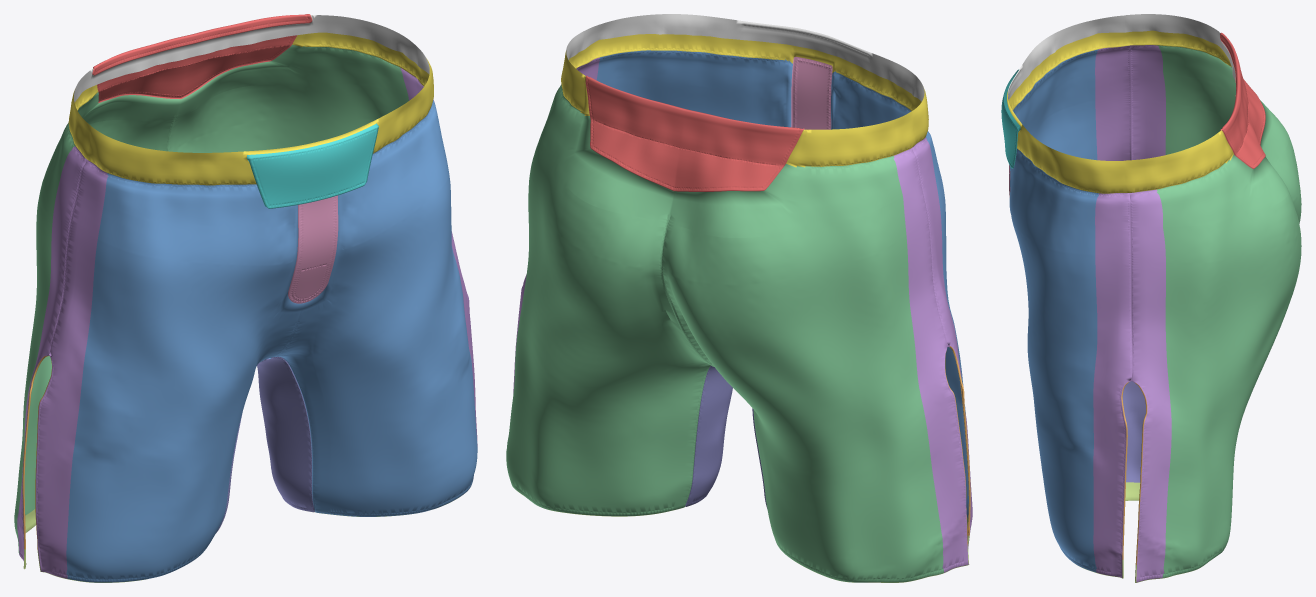
3 renders of one model, left to right at view 1: azimuth 30°, elevation 25°; view 2: azimuth 150°, elevation 25°; view 3: azimuth 270°, elevation 25°, orthographic. The views are drawn at different scales.
Visible parts, largest first — view 1: FIGHTERO_Shorts_V06; view 2: FIGHTERO_Shorts_V06; view 3: FIGHTERO_Shorts_V06.
Boxes of the visible parts, x1=… form: FIGHTERO_Shorts_V06: x1=14, y1=14, x2=477, y2=582; FIGHTERO_Shorts_V06: x1=506, y1=14, x2=972, y2=582; FIGHTERO_Shorts_V06: x1=1001, y1=14, x2=1301, y2=582.
Bounding box in the file's own units: 0.6079 × 0.5679 × 0.3838.
